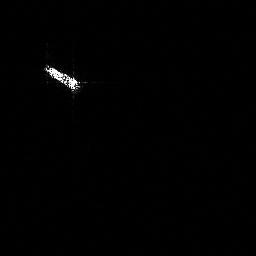ship: (44, 64, 80, 91)
